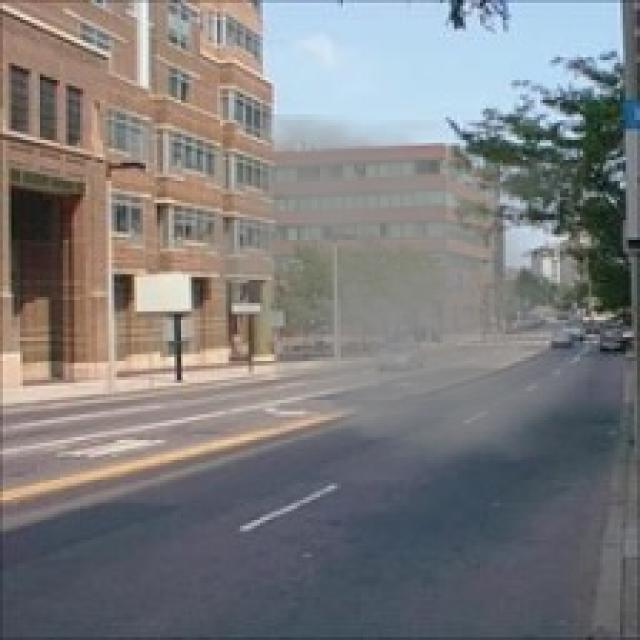smoke: (183, 114, 588, 463)
